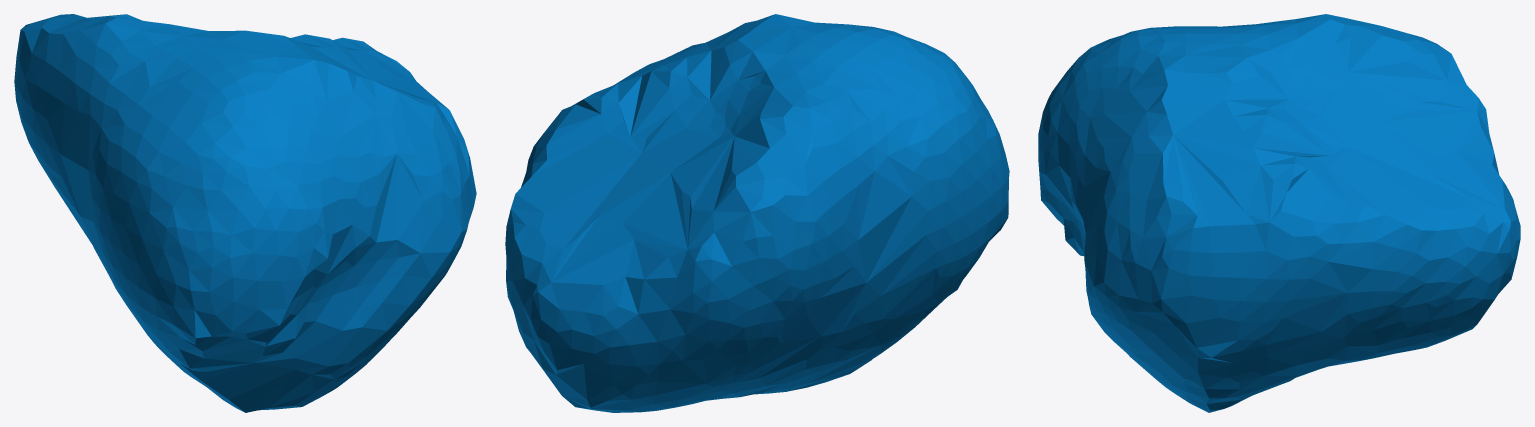
The model's file is Model_308_RH__Posterior_thalamic_nuclear_group_(Po).obj.
The picture shows the model from 3 angles, left to right: view 1: azimuth 30°, elevation 25°; view 2: azimuth 150°, elevation 25°; view 3: azimuth 270°, elevation 25°; orthographic projection. The views are drawn at different scales.
Bounding box in the file's own units: 1.41 × 1.29 × 1.77.
